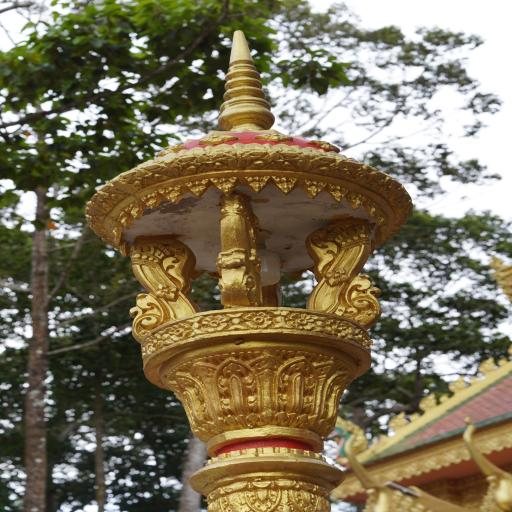hoa: (275, 309, 323, 333), (230, 309, 276, 332), (322, 316, 361, 340), (157, 320, 195, 343), (199, 311, 233, 336)
la: (206, 352, 262, 430), (269, 353, 321, 431), (168, 371, 217, 440)
lua: (326, 412, 400, 505), (453, 411, 512, 505)
ran: (294, 212, 393, 328), (114, 222, 198, 336), (199, 191, 273, 314)
